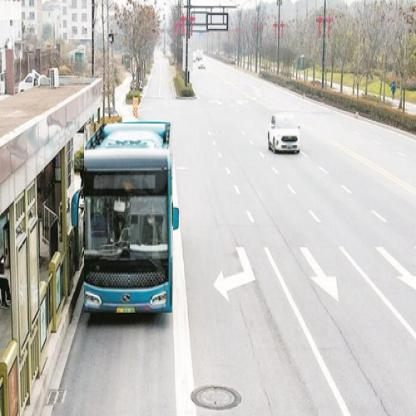bus: (85, 124, 175, 315)
car: (268, 113, 301, 155)
